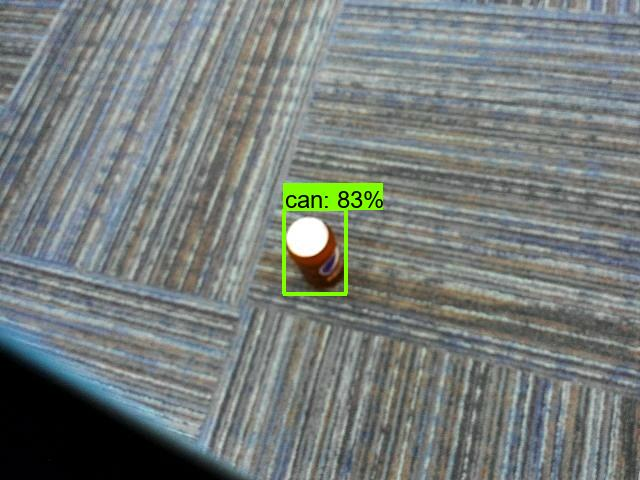can: (286, 215, 346, 290)
